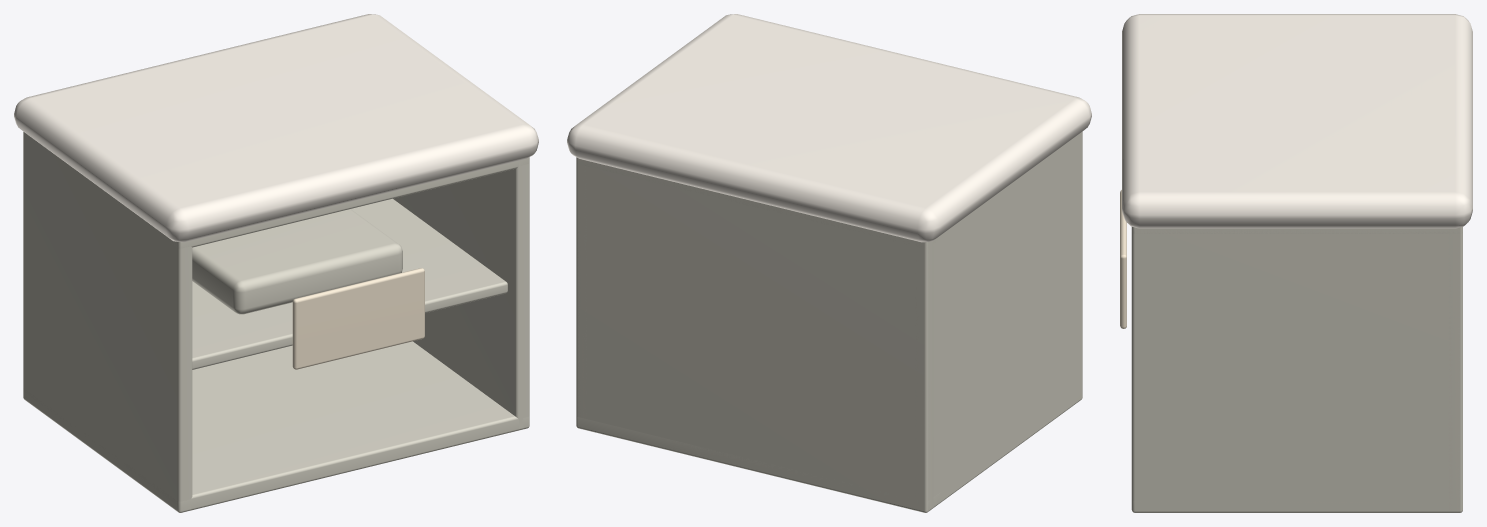
The model's file is officeWhiteBox.glb.
The picture shows the model from 3 angles, left to right: view 1: azimuth 30°, elevation 25°; view 2: azimuth 150°, elevation 25°; view 3: azimuth 270°, elevation 25°; orthographic projection. The views are drawn at different scales.
Visible parts, largest first — view 1: Box lid, Storage inner side, Storage inner floor, Storage inner side.001, Stored folded linen, Storage interior shelf, Box label, Storage inner floor.001; view 2: Storage inner back, Box lid, Storage inner side, Storage inner floor, Storage inner side.001; view 3: Storage inner side.001, Box lid, Storage inner back, Storage inner floor.001, Box label, Storage inner floor.
Part boxes in pixels (box(x1,y1,x2,y2)): Box lid: box(14, 14, 538, 242); Storage inner side: box(23, 132, 192, 512); Storage inner floor: box(23, 341, 529, 512); Storage inner side.001: box(393, 157, 529, 429); Stored folded linen: box(192, 209, 402, 314); Storage interior shelf: box(192, 198, 507, 369); Box label: box(292, 268, 424, 369); Storage inner floor.001: box(23, 132, 528, 248); Storage inner back: box(576, 157, 933, 512); Box lid: box(567, 14, 1091, 242); Storage inner side: box(915, 132, 1082, 511); Storage inner floor: box(576, 404, 1074, 512); Storage inner side.001: box(576, 160, 586, 430); Storage inner side.001: box(1131, 227, 1462, 512); Box lid: box(1122, 14, 1472, 228); Storage inner back: box(1448, 227, 1462, 512); Storage inner floor.001: box(1131, 227, 1462, 233); Box label: box(1120, 190, 1126, 328); Storage inner floor: box(1132, 500, 1462, 512).
Size of the model in its own units: 1.16 by 0.905 by 0.905.
